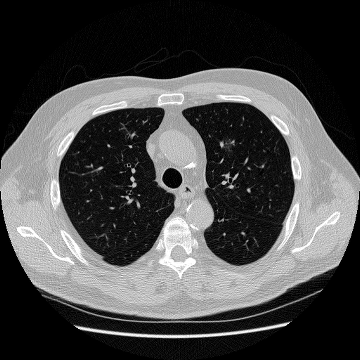nodule: (223, 141, 233, 151)
